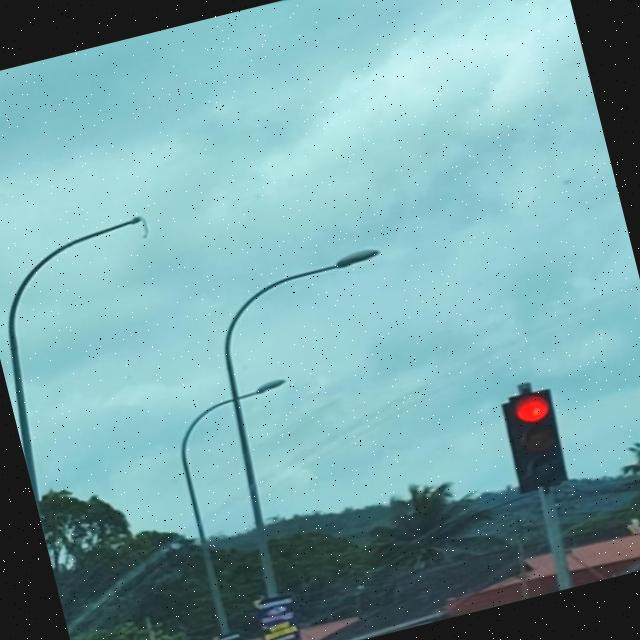red_light: (498, 387, 573, 492)
